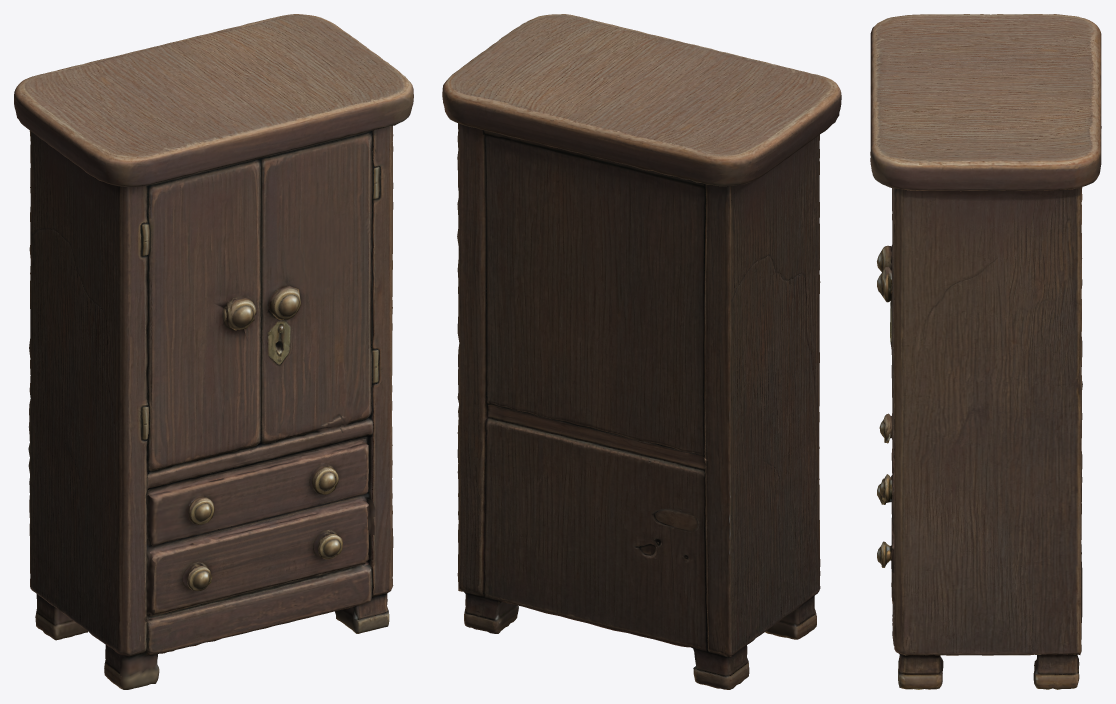
File: Furn_TallCabinet.fbx
The picture shows the model from 3 angles, left to right: view 1: azimuth 30°, elevation 25°; view 2: azimuth 150°, elevation 25°; view 3: azimuth 270°, elevation 25°; orthographic projection.
Parts seen in each view (by area): view 1: texture_mapping; view 2: texture_mapping; view 3: texture_mapping.
Part boxes in pixels (left/top/right/bottom): texture_mapping: left=14, top=14, right=413, bottom=689; texture_mapping: left=442, top=14, right=841, bottom=689; texture_mapping: left=870, top=14, right=1101, bottom=689.
Bounding box in the file's own units: 0.6082 × 0.3875 × 0.9956.
Materials: 1 (1 with a texture image).
